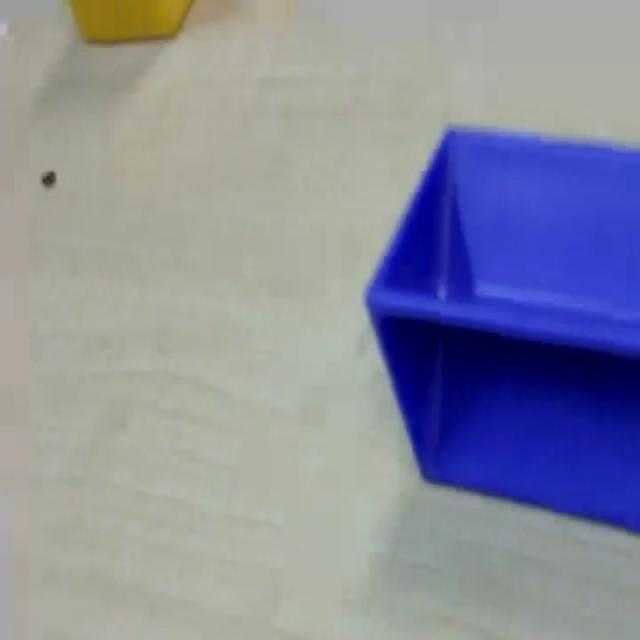blue_block: (363, 121, 639, 534)
yellow_block: (66, 0, 194, 44)
